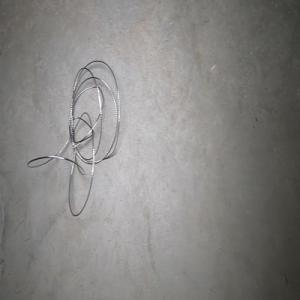Wire: (26, 60, 120, 216)
